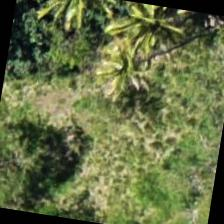Kelapa_Sawit: (70, 16, 174, 119), (20, 0, 120, 67), (90, 0, 187, 58)
